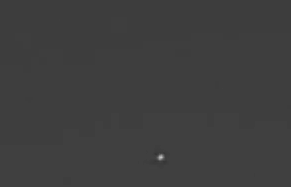Target: (157, 154, 163, 160)
